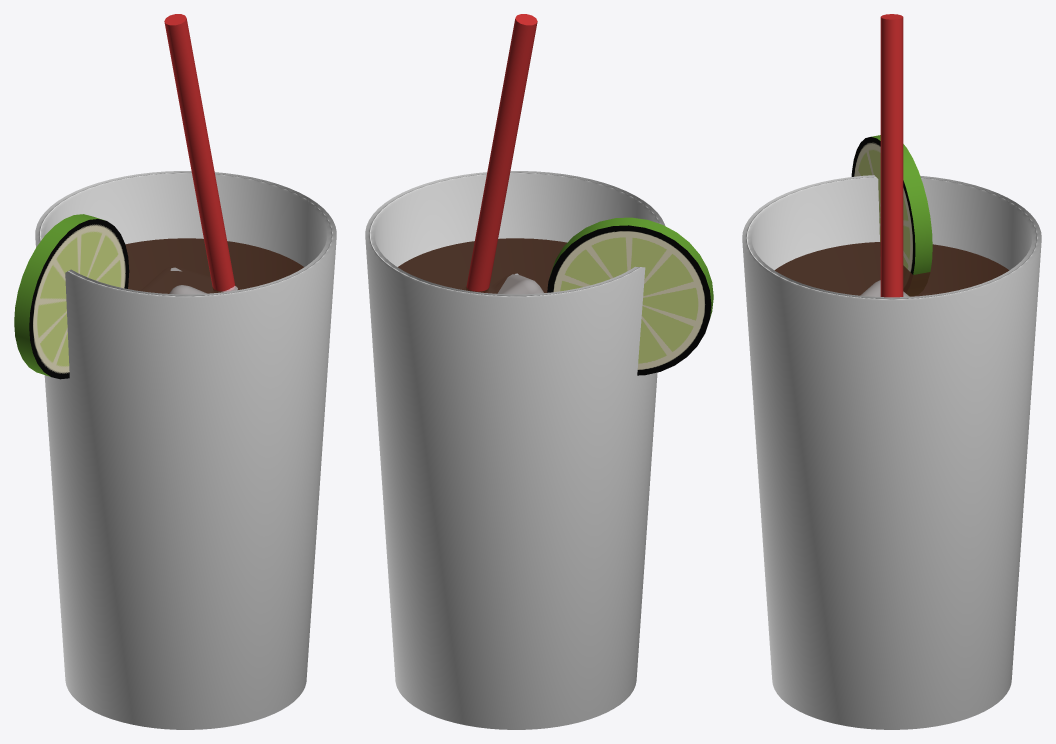
The model's file is refrigerante.glb.
The picture shows the model from 3 angles, left to right: view 1: azimuth 30°, elevation 25°; view 2: azimuth 150°, elevation 25°; view 3: azimuth 270°, elevation 25°; orthographic projection.
Size of the model in its own units: 0.0962 by 0.1942 by 0.08.
Materials: 7 (2 with a texture image).
